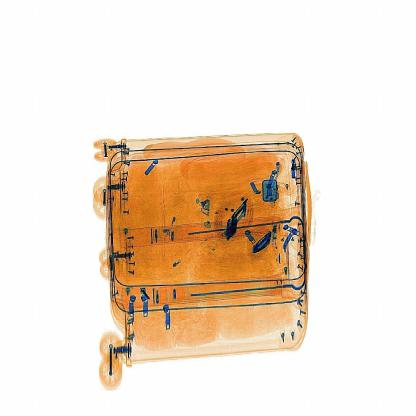knife: (244, 222, 286, 261)
